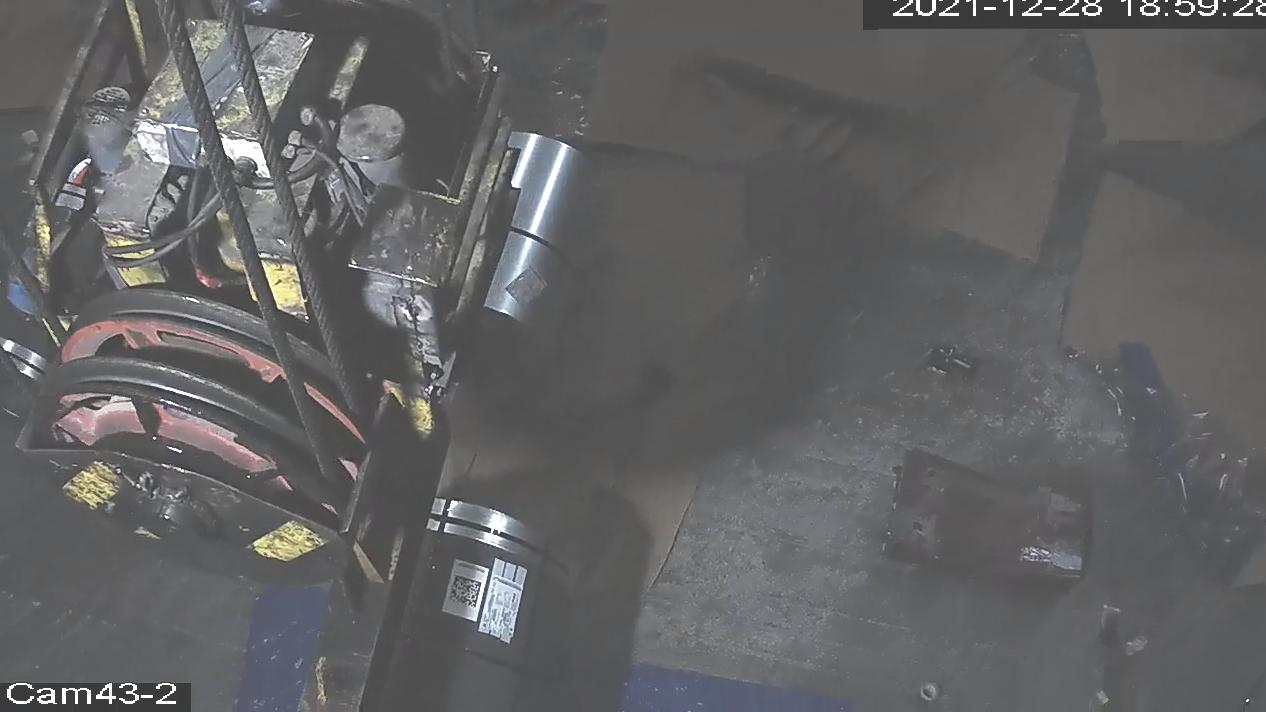data matrix: (445, 573, 485, 612)
